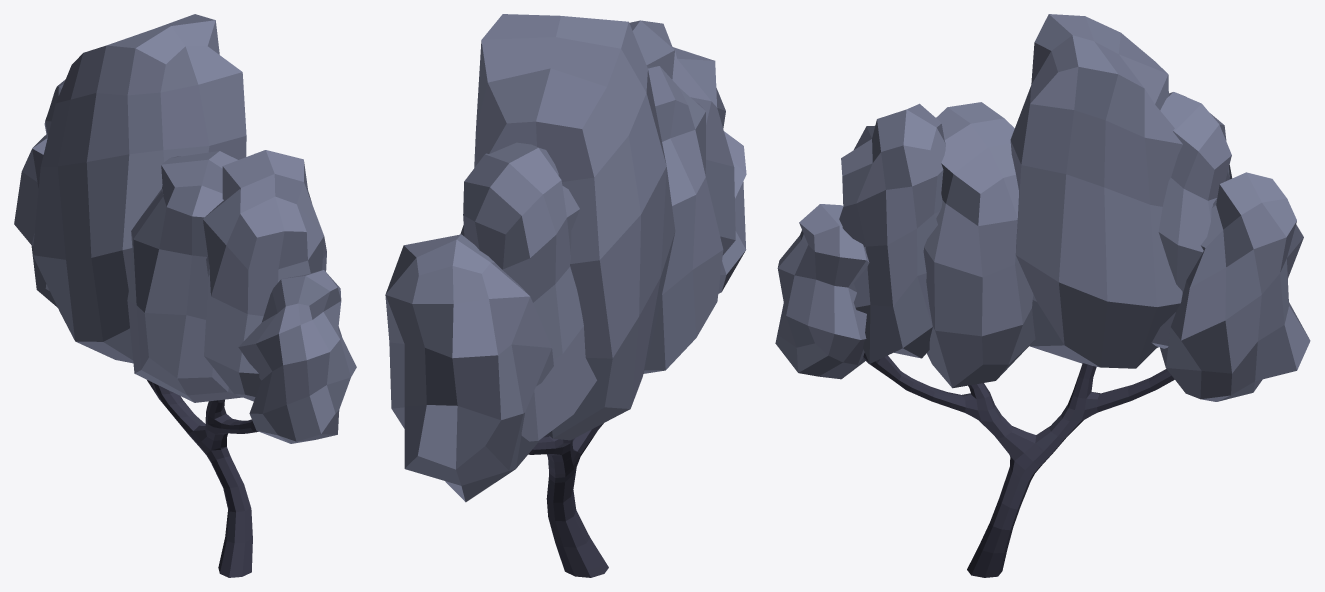
The model's file is Normal_tree_6.fbx.
3 renders of one model, left to right at view 1: azimuth 30°, elevation 25°; view 2: azimuth 150°, elevation 25°; view 3: azimuth 270°, elevation 25°, orthographic. The views are drawn at different scales.
Parts seen in each view (by area): view 1: Normal_tree_6; view 2: Normal_tree_6; view 3: Normal_tree_6.
Part boxes in pixels (x1,y1,x2,y2): Normal_tree_6: (14, 14, 356, 577); Normal_tree_6: (385, 14, 746, 577); Normal_tree_6: (775, 14, 1310, 577).
Size of the model in its own units: 8.66 by 26.73 by 24.7.
